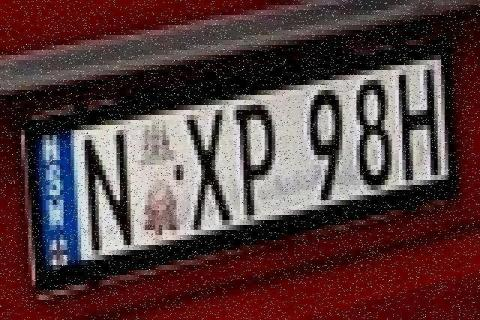LicensePlate: (15, 32, 461, 298)
